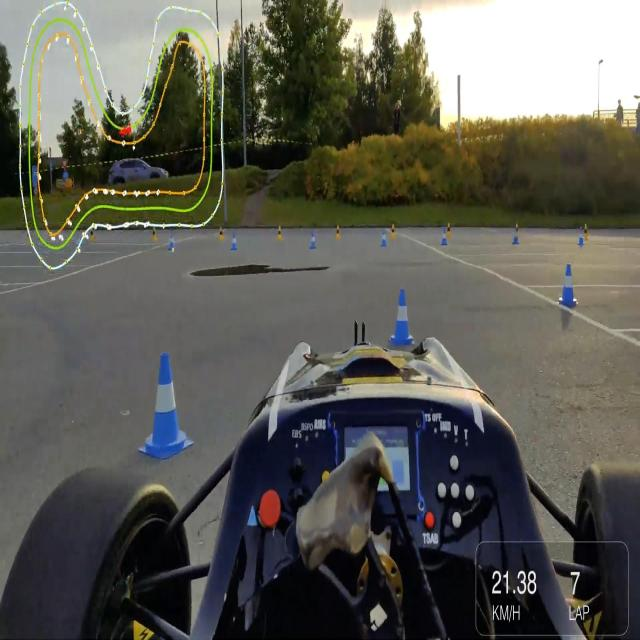blue_cone: (141, 353, 193, 460), (387, 288, 414, 350), (559, 267, 577, 306), (229, 232, 238, 254), (439, 228, 448, 247), (511, 229, 520, 247), (167, 233, 176, 251), (380, 230, 388, 250), (578, 228, 584, 248), (310, 233, 316, 250)
yellow_cone: (150, 225, 158, 242), (276, 225, 284, 242), (218, 225, 225, 242), (390, 223, 397, 240), (515, 222, 521, 239), (446, 222, 452, 238), (90, 228, 95, 243), (336, 226, 342, 238), (584, 223, 588, 241)
